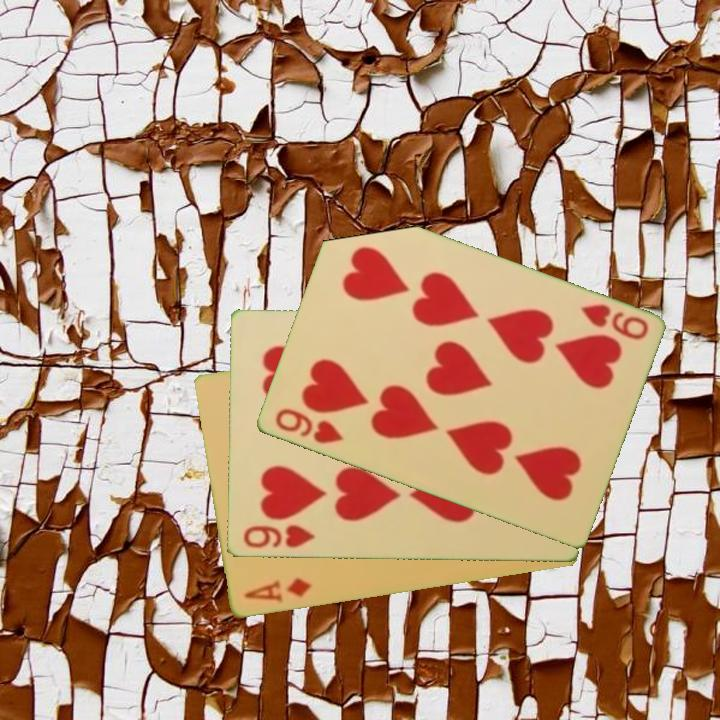9h: (576, 300, 651, 343), (271, 405, 346, 447), (239, 522, 318, 552)
Ad: (240, 575, 314, 605)
